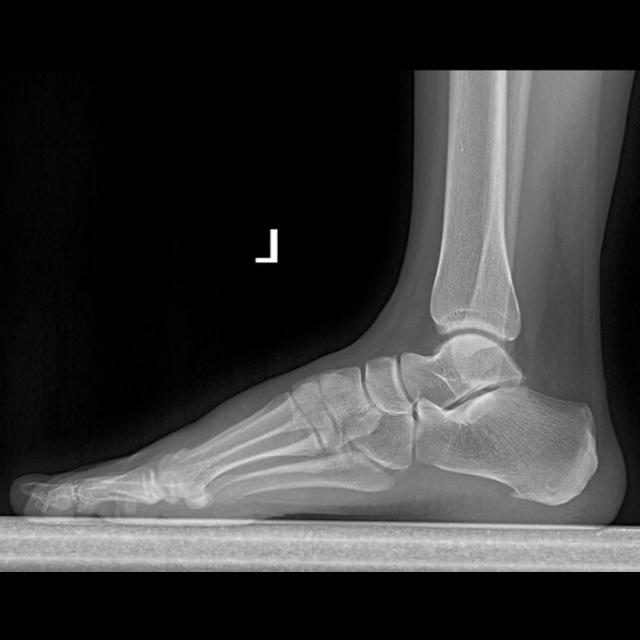a: (415, 385, 599, 506)
b: (364, 356, 412, 414)
c: (159, 396, 323, 497)
